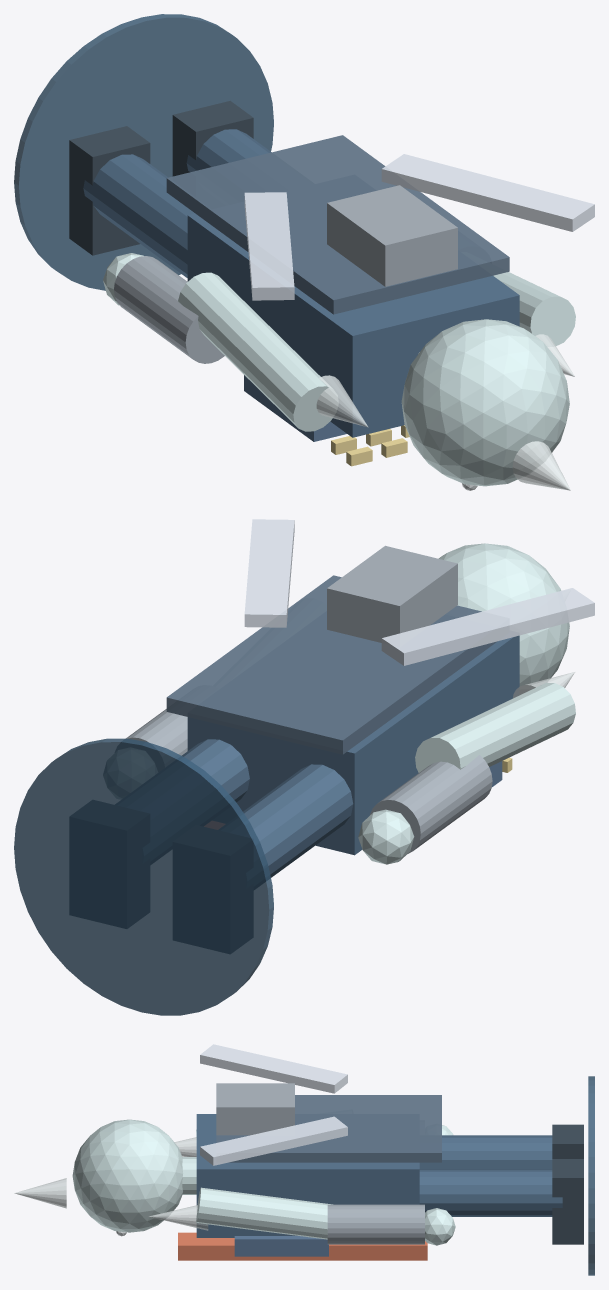
File: SW_NPC_044_vale_dawnhook.glb
3 renders of one model, top to bottom at view 1: azimuth 30°, elevation 25°; view 2: azimuth 150°, elevation 25°; view 3: azimuth 270°, elevation 25°, orthographic. The views are drawn at different scales.
Parts seen in each view (by area): view 1: round_base_plate, torso_uniform, head, storm_cloak, left_upper_arm, wingpack_core, left_leg, right_wing_rig, left_forearm_gauntlet, left_boot, left_wing_rig, right_boot (+6 smaller); view 2: round_base_plate, storm_cloak, torso_uniform, wingpack_core, head, left_upper_arm, left_leg, left_wing_rig, left_forearm_gauntlet, right_wing_rig, left_hand, right_leg (+1 smaller); view 3: head, torso_uniform, storm_cloak, right_leg, right_upper_arm, left_leg, right_forearm_gauntlet, wingpack_core, rank_sash, right_wing_rig, left_wing_rig, right_boot (+8 smaller).
Part boxes in pixels (x1,y1,x2,y2): round_base_plate: [14, 14, 273, 290]; torso_uniform: [187, 213, 519, 437]; head: [401, 319, 569, 486]; storm_cloak: [166, 135, 509, 314]; left_upper_arm: [178, 272, 338, 431]; wingpack_core: [327, 185, 457, 286]; left_leg: [83, 154, 194, 277]; right_wing_rig: [381, 154, 594, 231]; left_forearm_gauntlet: [114, 256, 224, 363]; left_boot: [69, 126, 150, 255]; left_wing_rig: [244, 192, 294, 300]; right_boot: [172, 100, 253, 176]; round_base_plate: [14, 738, 273, 1015]; storm_cloak: [166, 575, 497, 754]; torso_uniform: [187, 635, 519, 855]; wingpack_core: [327, 545, 457, 642]; head: [438, 543, 569, 694]; left_upper_arm: [415, 682, 575, 772]; left_leg: [243, 764, 353, 877]; left_wing_rig: [381, 588, 594, 665]; left_forearm_gauntlet: [370, 755, 492, 853]; right_wing_rig: [244, 519, 294, 627]; left_hand: [358, 809, 414, 864]; right_leg: [182, 739, 249, 802]; head: [72, 1119, 183, 1232]; torso_uniform: [196, 1114, 419, 1237]; storm_cloak: [216, 1095, 441, 1162]; right_leg: [419, 1169, 562, 1216]; right_upper_arm: [196, 1187, 332, 1239]; left_leg: [419, 1135, 552, 1169]; right_forearm_gauntlet: [327, 1204, 424, 1244]; wingpack_core: [216, 1083, 294, 1135]; rank_sash: [178, 1232, 427, 1260]; right_wing_rig: [200, 1116, 347, 1165]; left_wing_rig: [200, 1044, 347, 1093]; right_boot: [552, 1159, 583, 1244].
Bounding box in the file's own units: 1.06 × 0.7896 × 2.3.
